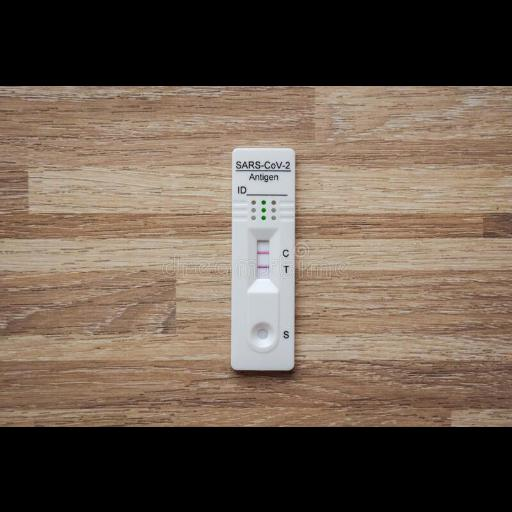Pos: (231, 146, 295, 370)
